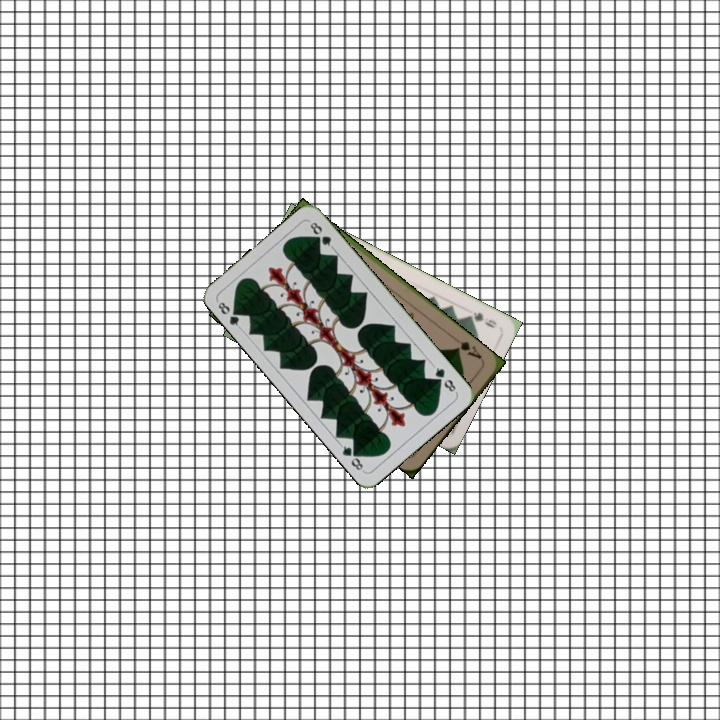G8: (213, 297, 244, 331), (429, 361, 459, 395)
G9: (462, 308, 499, 331)
GA: (452, 334, 485, 364)
